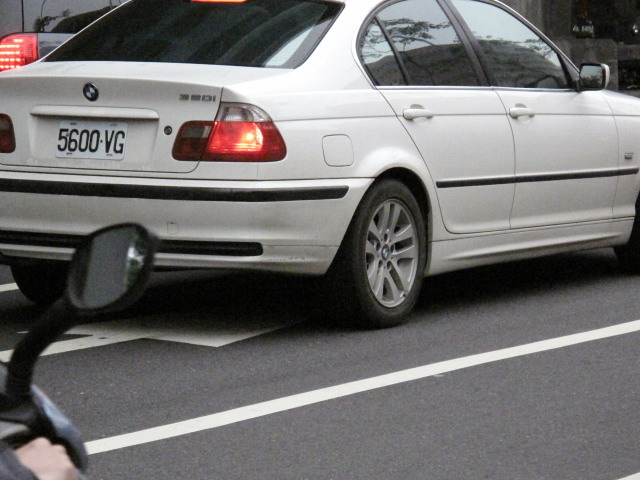plate: (55, 115, 130, 162)
